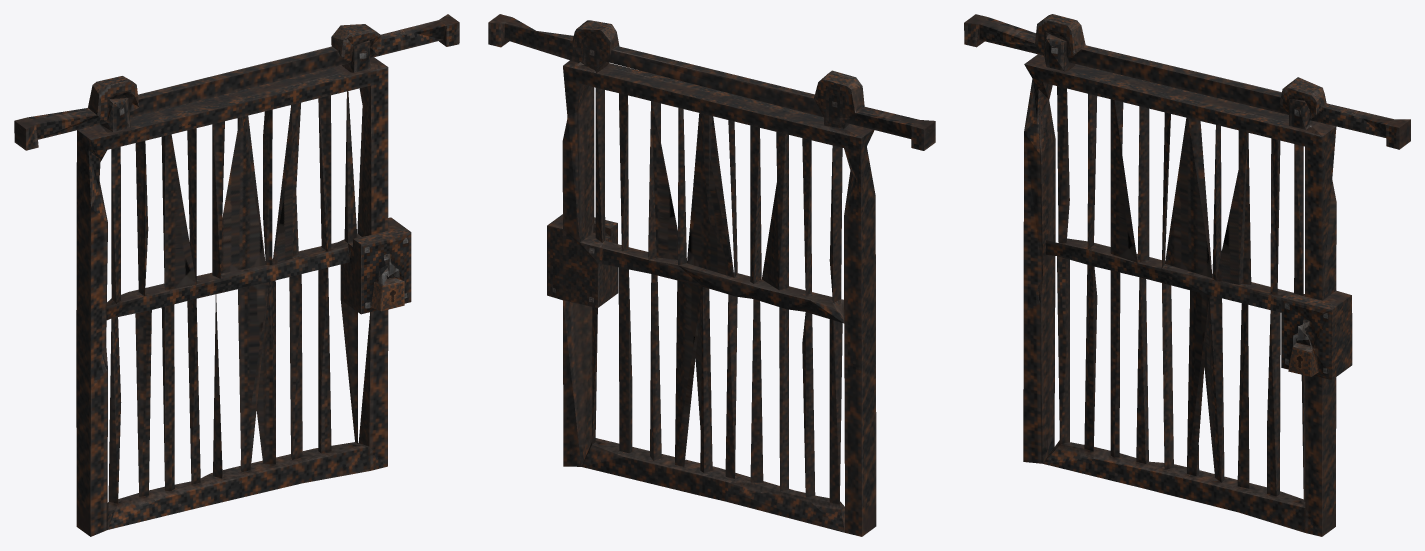
Rendered from Meshy_AI_model.glb.
3 views of the same model, side by side, from view 1: azimuth 30°, elevation 25°; view 2: azimuth 150°, elevation 25°; view 3: azimuth 330°, elevation 25° (orthographic).
Visible parts, largest first — view 1: output_unwrapped; view 2: output_unwrapped; view 3: output_unwrapped.
Boxes of the visible parts, <box> form: output_unwrapped: <box>14,14,459,536</box>; output_unwrapped: <box>488,14,935,536</box>; output_unwrapped: <box>964,14,1410,536</box>.
Size of the model in its own units: 1.9 by 1.87 by 0.2233.
1 material, 1 textured.
